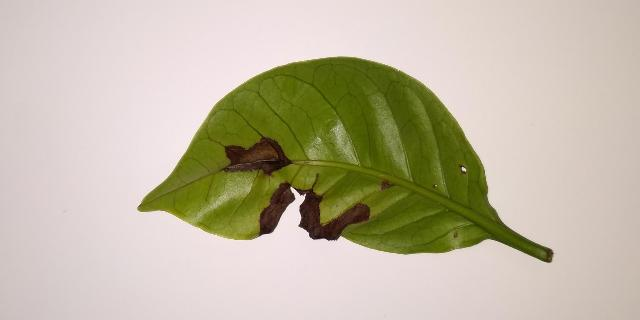rust: (254, 181, 370, 240), (222, 137, 292, 176), (380, 181, 392, 190)
